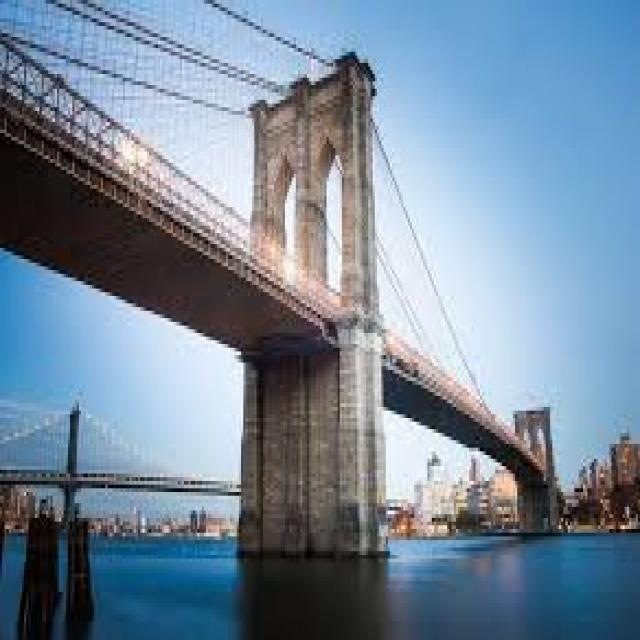Bridges: (4, 0, 573, 549)
